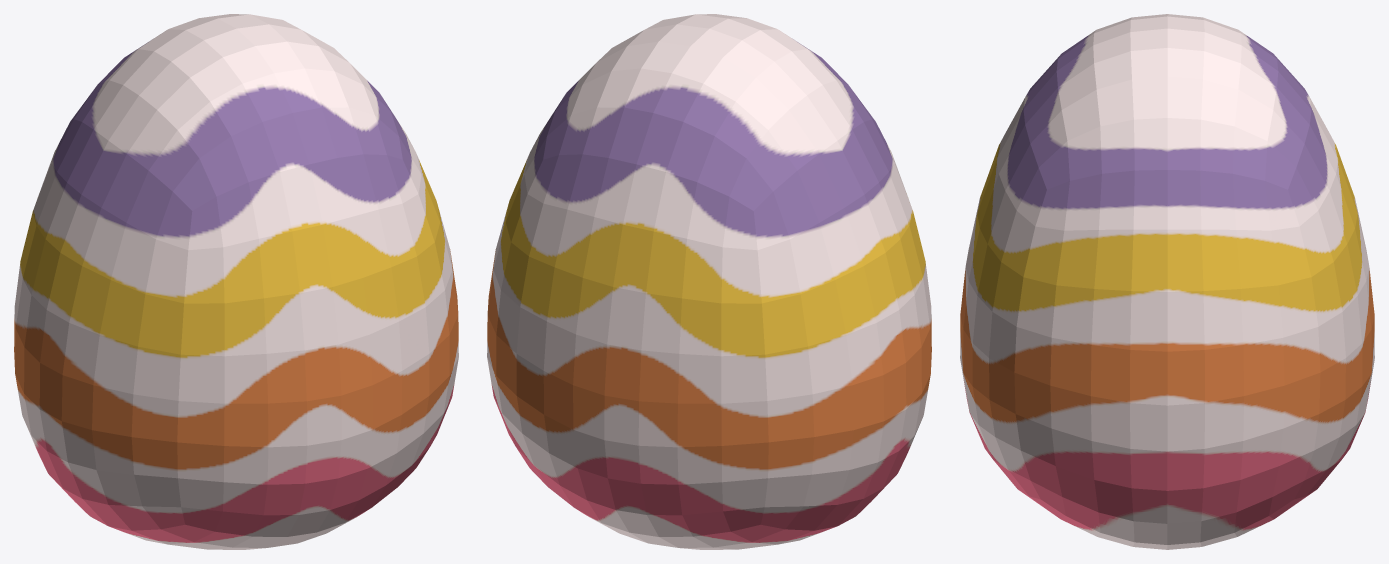
The model's file is Egg_Rainbow.fbx.
3 views of the same model, side by side, from view 1: azimuth 30°, elevation 25°; view 2: azimuth 150°, elevation 25°; view 3: azimuth 270°, elevation 25° (orthographic).
Visible parts, largest first — view 1: Egg; view 2: Egg; view 3: Egg.
Boxes of the visible parts, x1,y1,x2,y2 form: Egg: (14,14,458,549); Egg: (487,14,931,549); Egg: (960,14,1374,549).
Bounding box in the file's own units: 210 × 256 × 195.
1 material, 1 textured.
